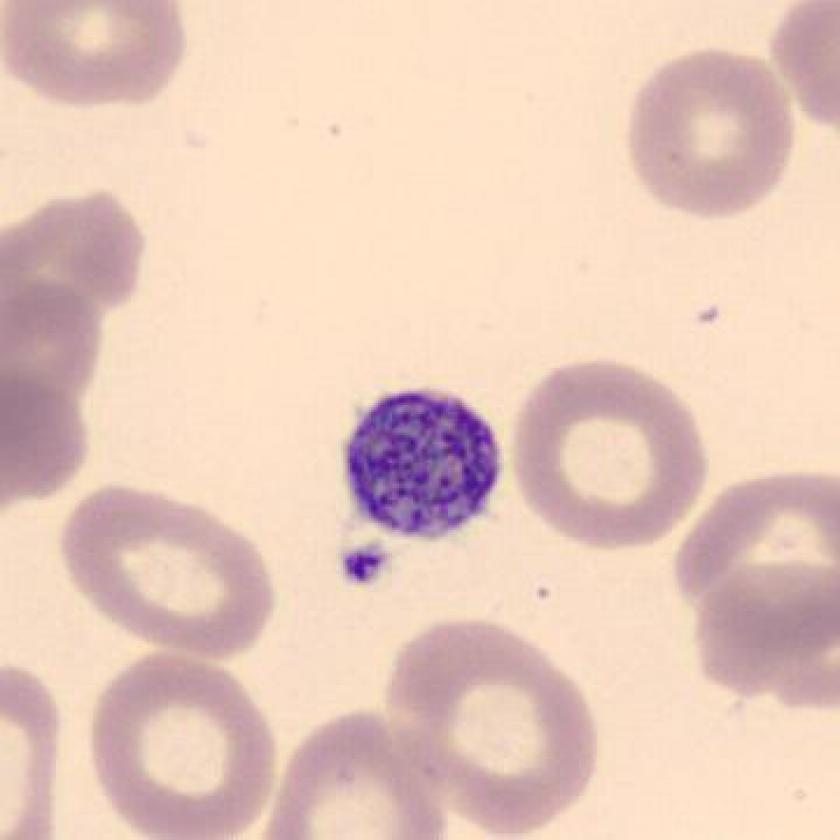platelets: (330, 371, 519, 552), (330, 536, 395, 605)
